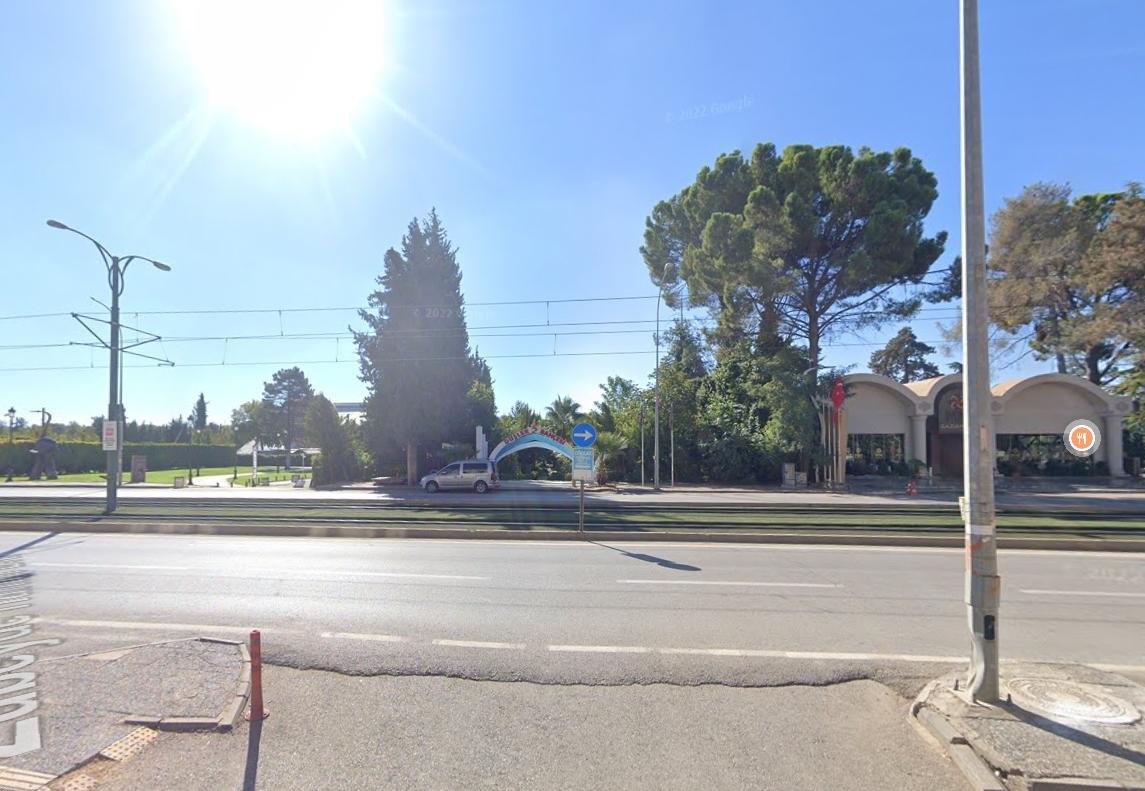turnright: (572, 425, 598, 448)
